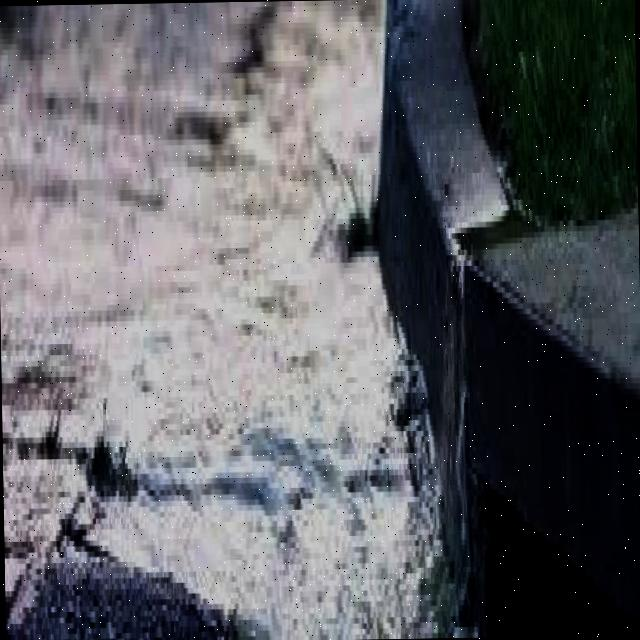curb: (379, 16, 640, 638)
